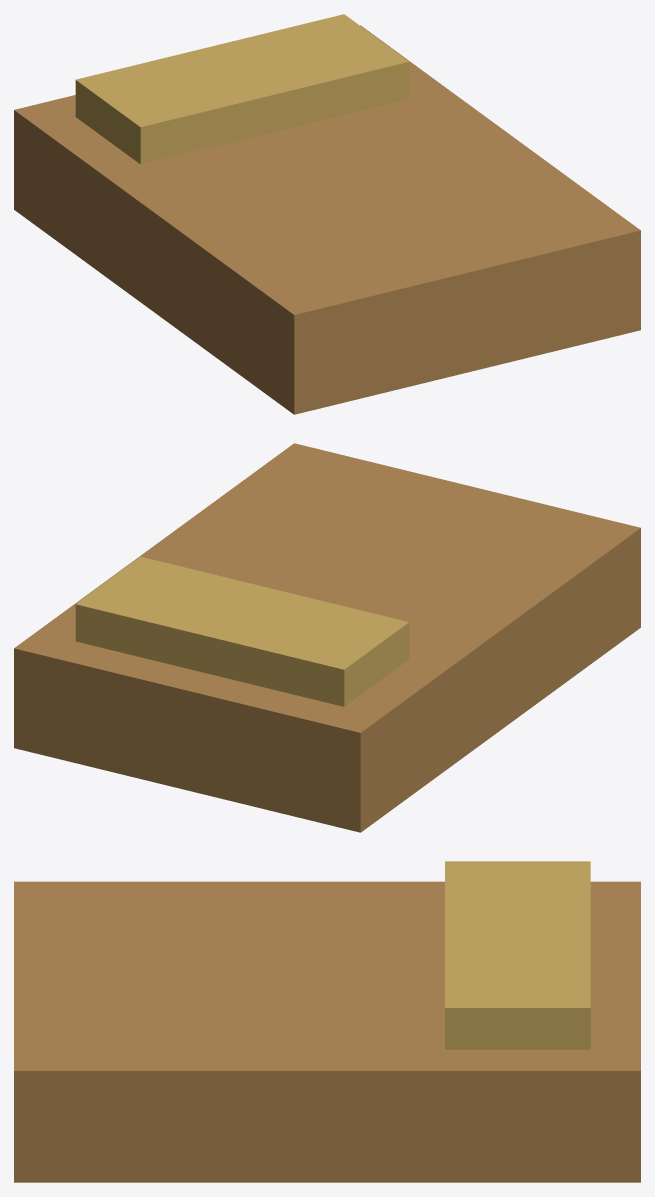
Rendered from bed.glb.
3 renders of one model, top to bottom at view 1: azimuth 30°, elevation 25°; view 2: azimuth 150°, elevation 25°; view 3: azimuth 270°, elevation 25°, orthographic. The views are drawn at different scales.
Visible parts, largest first — view 1: bed_base, bed_pillow; view 2: bed_base, bed_pillow; view 3: bed_base, bed_pillow.
Boxes of the visible parts, bbox=[...] form: bed_base: bbox=[14, 25, 640, 414]; bed_pillow: bbox=[75, 14, 409, 164]; bed_base: bbox=[14, 443, 640, 832]; bed_pillow: bbox=[75, 556, 409, 706]; bed_base: bbox=[14, 881, 640, 1182]; bed_pillow: bbox=[445, 861, 590, 1049].
Size of what is drawn, in the model's own units: 2 by 0.755 by 2.8.
